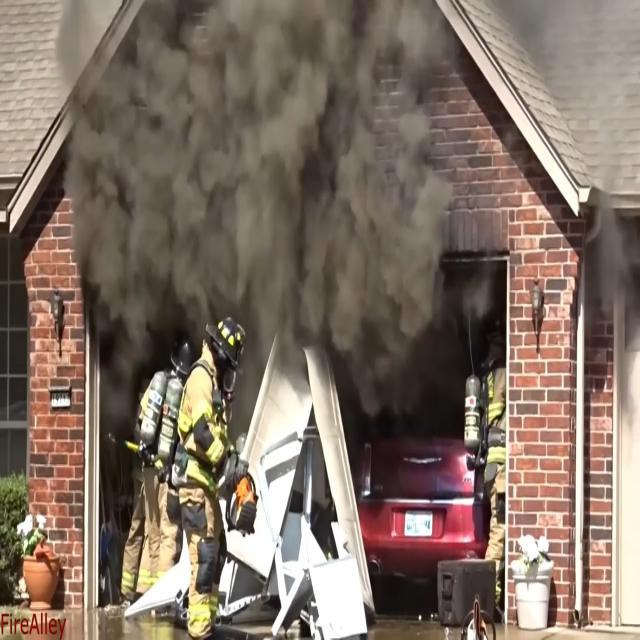Smoke: (81, 28, 442, 324)
